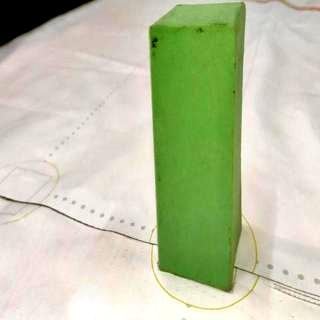greenbox: (149, 3, 248, 291)
